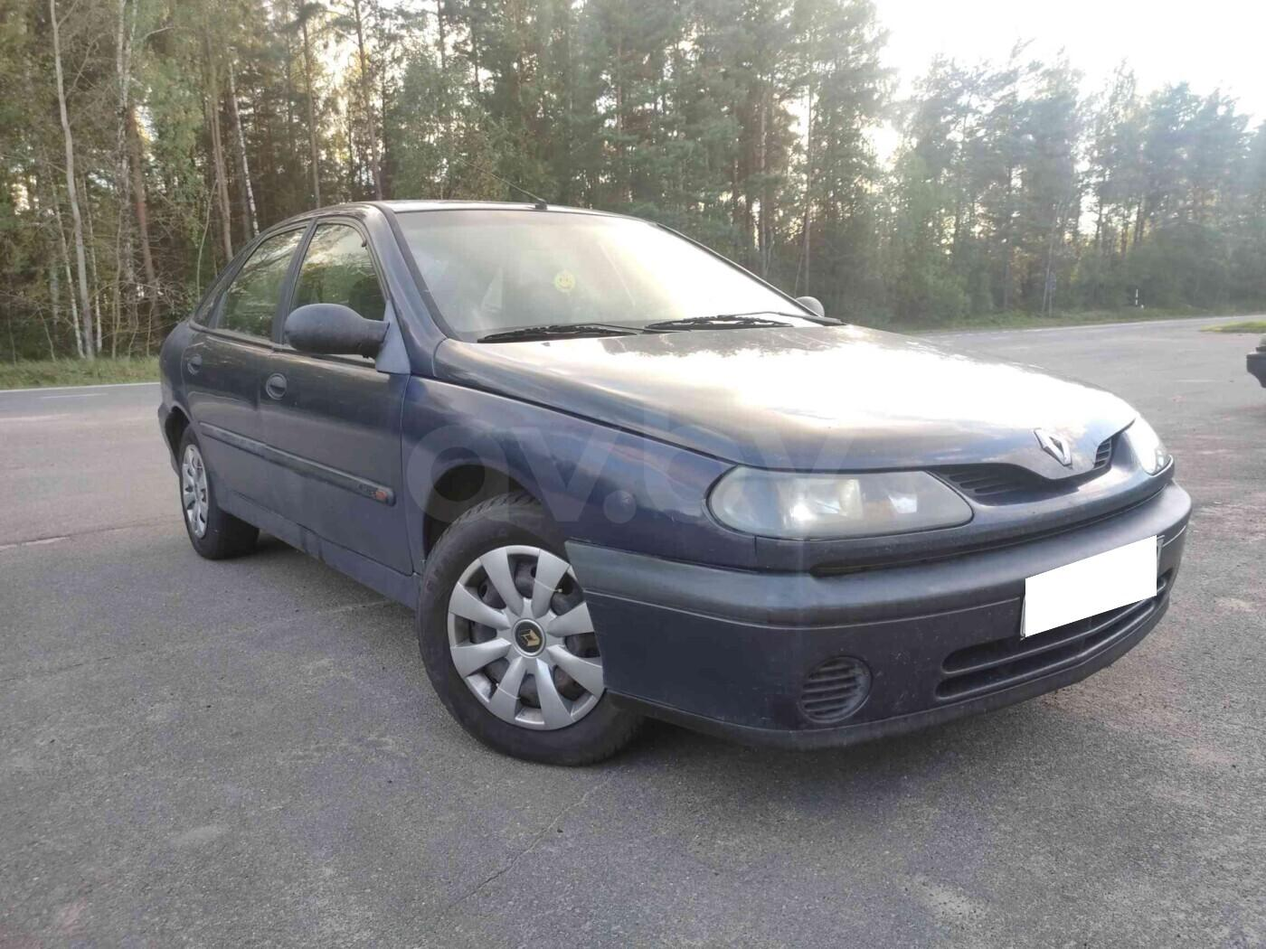Laguna_1998-2001: (155, 185, 1178, 775)
